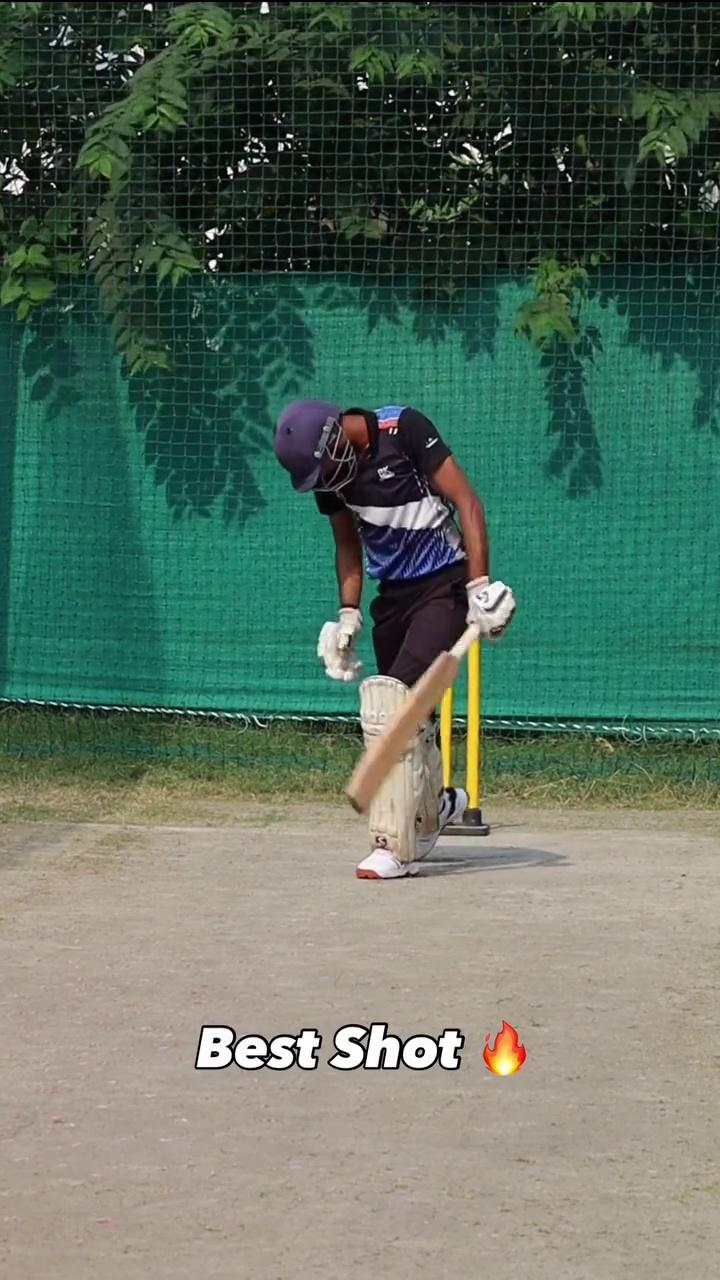bat: (333, 645, 465, 819)
